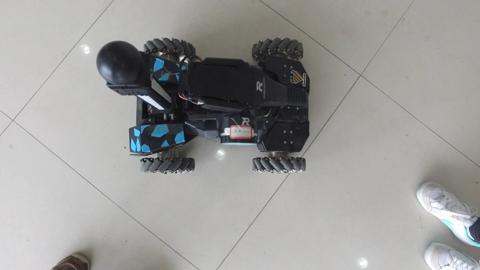chariot: (96, 29, 302, 177)
